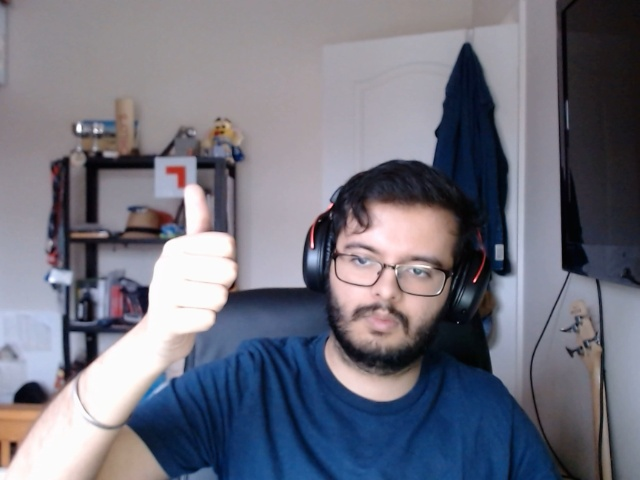Thumbs up: (140, 174, 248, 362)
